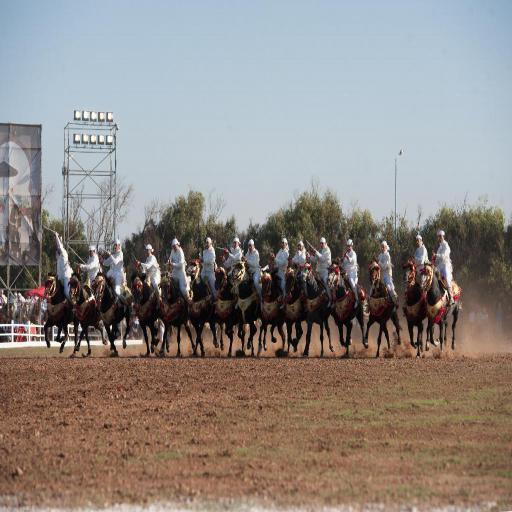horse: (42, 258, 464, 360)
